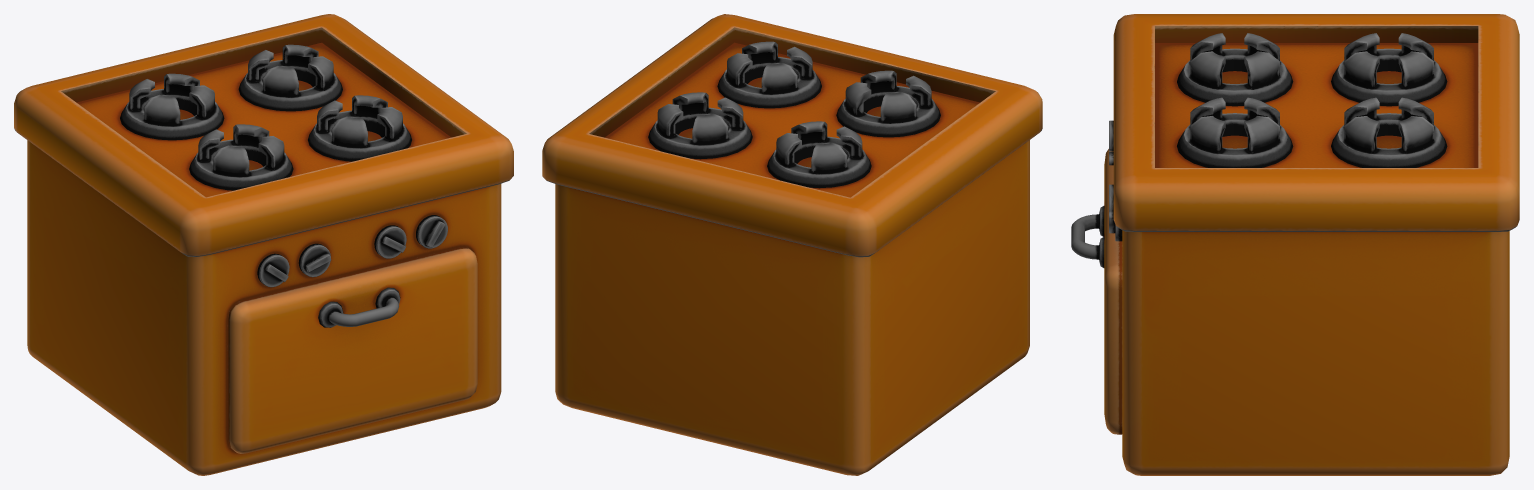
File: stove.fbx
The picture shows the model from 3 angles, left to right: view 1: azimuth 30°, elevation 25°; view 2: azimuth 150°, elevation 25°; view 3: azimuth 270°, elevation 25°; orthographic projection. The views are drawn at different scales.
Visible parts, largest first — view 1: Gas Cooker & Oven; view 2: Gas Cooker & Oven; view 3: Gas Cooker & Oven.
Part boxes in pixels (<box>): Gas Cooker & Oven: <box>14,14,513,475</box>; Gas Cooker & Oven: <box>542,14,1042,475</box>; Gas Cooker & Oven: <box>1071,14,1519,475</box>.
Size of the model in its own units: 87.22 by 71.98 by 92.02.
1 material, 1 textured.
